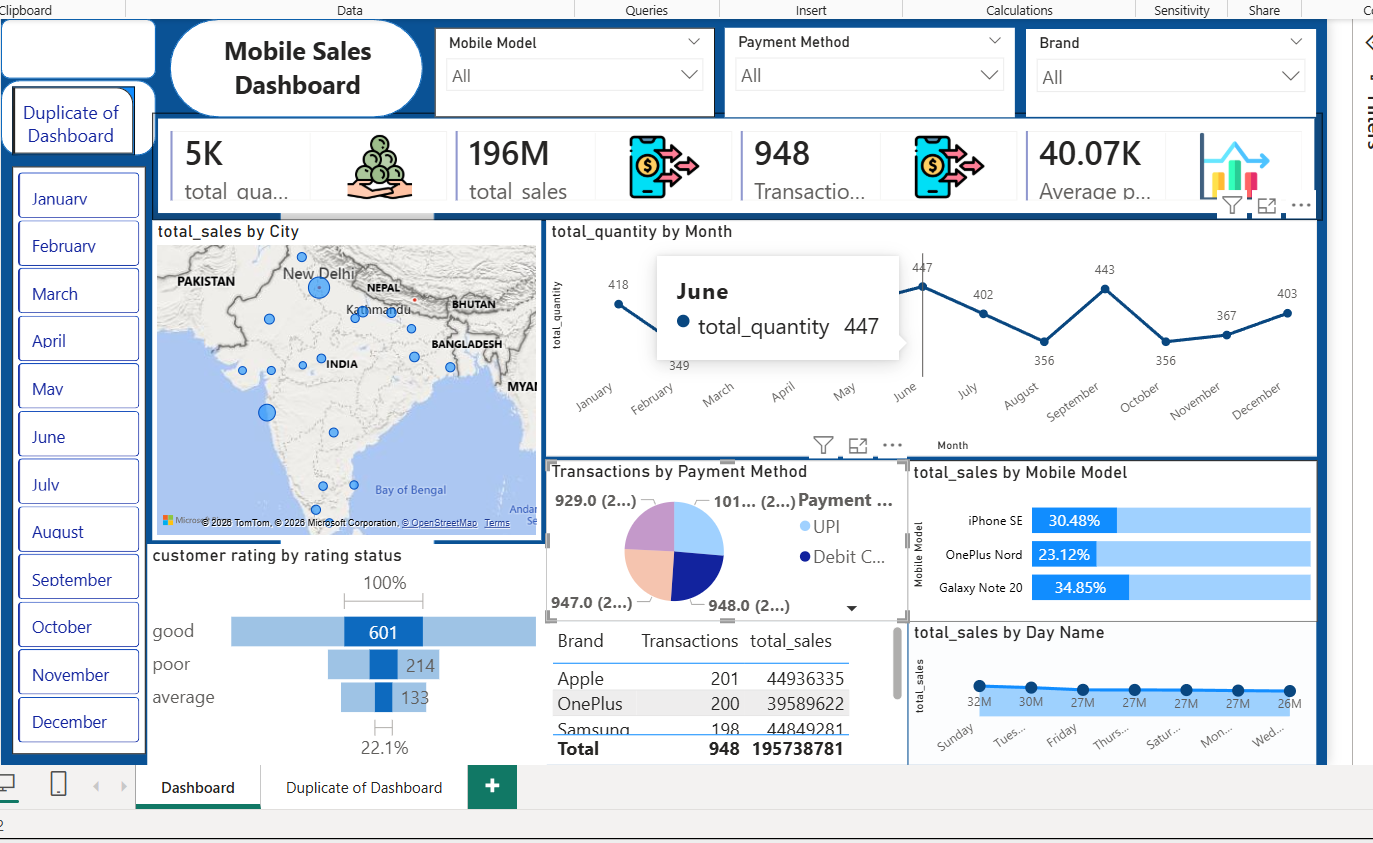

What the dashboard file says about the page in this screenshot:
{"tool":"powerbi","page":{"name":"Dashboard","canvas":[1280,720],"ordinal":0},"visuals":[{"type":"shape","box":[0,0,149.6,57.6],"z":0},{"type":"shape","box":[0,58.6,149.4,72.6],"z":1000},{"type":"shape","box":[269,130.3,149.6,589.9],"z":2000},{"type":"advancedSlicerVisual","fields":{"Values":["custom_calendar.Date.Variation.Date Hierarchy.Month"]},"box":[10.9,142.4,129.1,567],"z":3000},{"type":"cardVisual","fields":{"Data":["mobile_sales_data.total_quantity","mobile_sales_data.total_sales","mobile_sales_data.Transactions","mobile_sales_data.Average price"]},"box":[146,90.5,1129.2,103.8],"z":4000},{"type":"slicer","fields":{"Values":["mobile_sales_data.Mobile Model"]},"box":[418.5,8.2,270.3,86.4],"z":5000},{"type":"slicer","fields":{"Values":["mobile_sales_data.Payment Method"]},"box":[698.5,8.2,279.9,86.4],"z":6000},{"type":"slicer","fields":{"Values":["mobile_sales_data.Brand"]},"box":[989.4,9.6,279.9,85.1],"z":7000},{"type":"shape","box":[163.4,0,244.3,94.9],"z":8000},{"type":"textbox","box":[195.5,9.8,181.5,81],"z":9000},{"type":"map","fields":{"Category":["mobile_sales_data.City"],"Size":["mobile_sales_data.total_sales"]},"box":[146,194.2,375.2,308.8],"z":10000},{"type":"lineChart","fields":{"Category":["custom_calendar.Date.Variation.Date Hierarchy.Month"],"Y":["mobile_sales_data.total_quantity"]},"box":[526,194.2,744.4,228],"z":11000},{"type":"funnel","title":"customer rating by rating status","fields":{"Y":["CountNonNull(mobile_sales_data.Customer Age)"],"Category":["mobile_sales_data.customer rating"]},"box":[141,506.8,385.3,213.6],"z":12000},{"type":"pieChart","fields":{"Y":["mobile_sales_data.Transactions"],"Category":["mobile_sales_data.Payment Method"]},"box":[526,425.9,349.9,155.6],"z":13000},{"type":"hundredPercentStackedBarChart","fields":{"Y":["mobile_sales_data.total_sales"],"Category":["mobile_sales_data.Mobile Model"]},"box":[874.7,425.9,395.7,155.6],"z":14000},{"type":"stackedAreaChart","fields":{"Category":["custom_calendar.Day Name"],"Y":["mobile_sales_data.total_sales"]},"box":[875.9,581.5,393.3,138.7],"z":15000},{"type":"tableEx","fields":{"Values":["mobile_sales_data.Brand","mobile_sales_data.Transactions","mobile_sales_data.total_sales"]},"box":[526,581.5,348.7,138.7],"z":16000},{"type":"pageNavigator","box":[10.9,65.1,118.2,66.4],"z":16001}]}

Visuals, with their boxes on the page's 1280x720 design canvas (x1, y1, x2, y2). These are canvas units, not pixel positions in the 1373x843 screenshot, which may show the page scaled, cropped or inside an application window:
shape: select_region(0, 0, 150, 58)
shape: select_region(0, 59, 149, 131)
shape: select_region(269, 130, 419, 720)
advancedSlicerVisual - custom_calendar.Date.Variation.Date Hierarchy.Month: select_region(11, 142, 140, 709)
cardVisual - mobile_sales_data.total_quantity x mobile_sales_data.total_sales: select_region(146, 90, 1275, 194)
slicer - mobile_sales_data.Mobile Model: select_region(418, 8, 689, 95)
slicer - mobile_sales_data.Payment Method: select_region(698, 8, 978, 95)
slicer - mobile_sales_data.Brand: select_region(989, 10, 1269, 95)
shape: select_region(163, 0, 408, 95)
textbox: select_region(196, 10, 377, 91)
map - mobile_sales_data.City x mobile_sales_data.total_sales: select_region(146, 194, 521, 503)
lineChart - custom_calendar.Date.Variation.Date Hierarchy.Month x mobile_sales_data.total_quantity: select_region(526, 194, 1270, 422)
"customer rating by rating status" funnel: select_region(141, 507, 526, 720)
pieChart - mobile_sales_data.Transactions x mobile_sales_data.Payment Method: select_region(526, 426, 876, 582)
hundredPercentStackedBarChart - mobile_sales_data.total_sales x mobile_sales_data.Mobile Model: select_region(875, 426, 1270, 582)
stackedAreaChart - custom_calendar.Day Name x mobile_sales_data.total_sales: select_region(876, 582, 1269, 720)
tableEx - mobile_sales_data.Brand x mobile_sales_data.Transactions: select_region(526, 582, 875, 720)
pageNavigator: select_region(11, 65, 129, 132)
